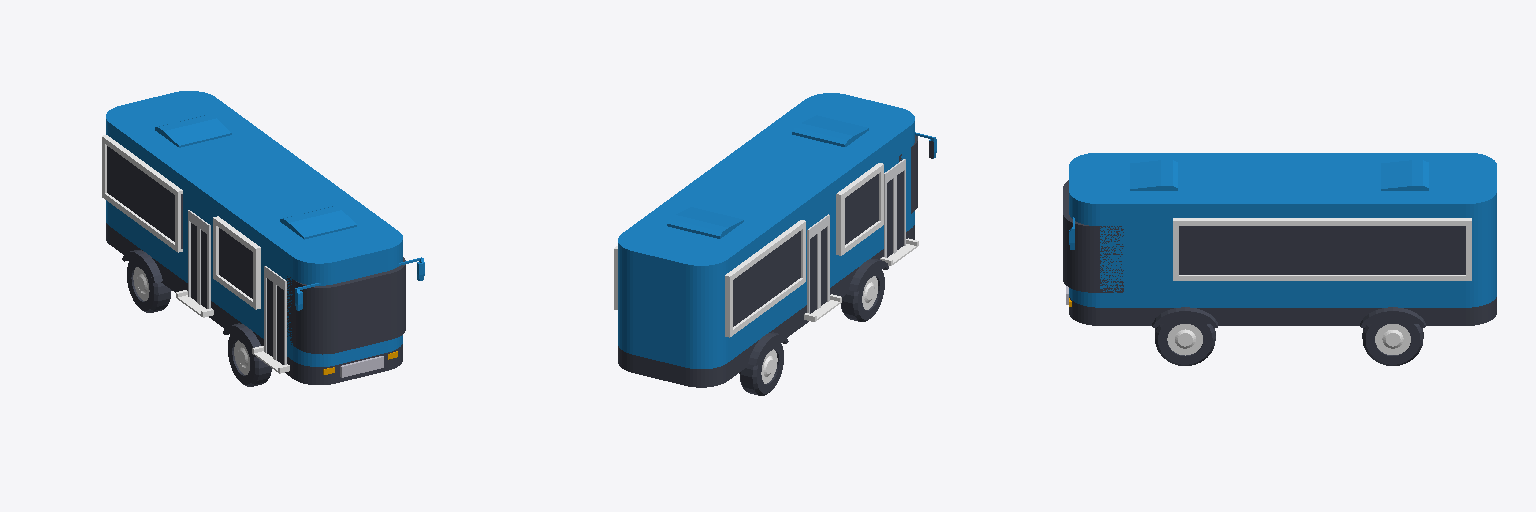
File: bus.obj
The picture shows the model from 3 angles: view 1: azimuth 30°, elevation 25°; view 2: azimuth 150°, elevation 25°; view 3: azimuth 270°, elevation 25°; orthographic projection.
Bounding box in the file's own units: 2.4 × 3 × 7.1.